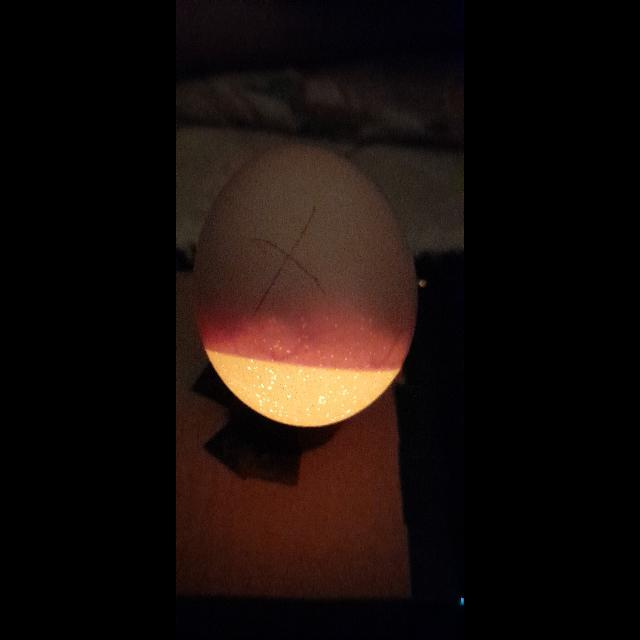Fertile: (183, 133, 424, 429)
